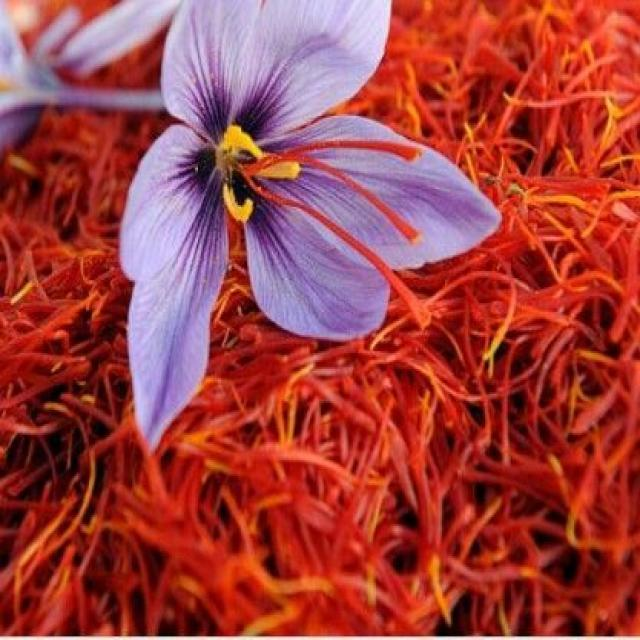Flower: (119, 1, 498, 446)
stigma: (248, 180, 437, 332), (262, 154, 424, 246), (265, 137, 425, 164)
